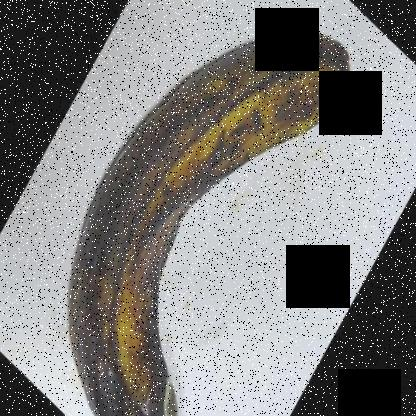rotten: (57, 19, 378, 414)
